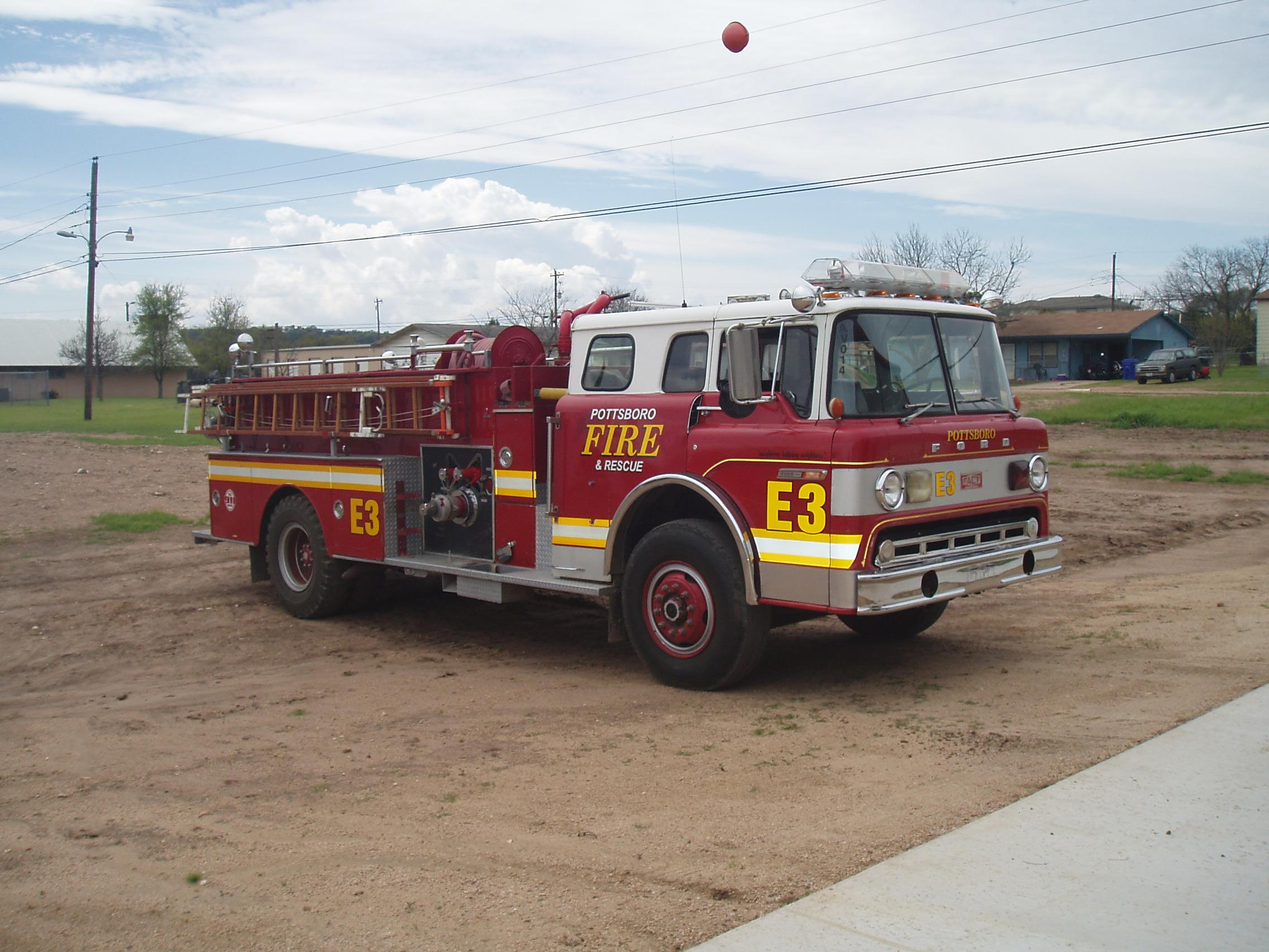Fire-engine: (180, 256, 1064, 692)
